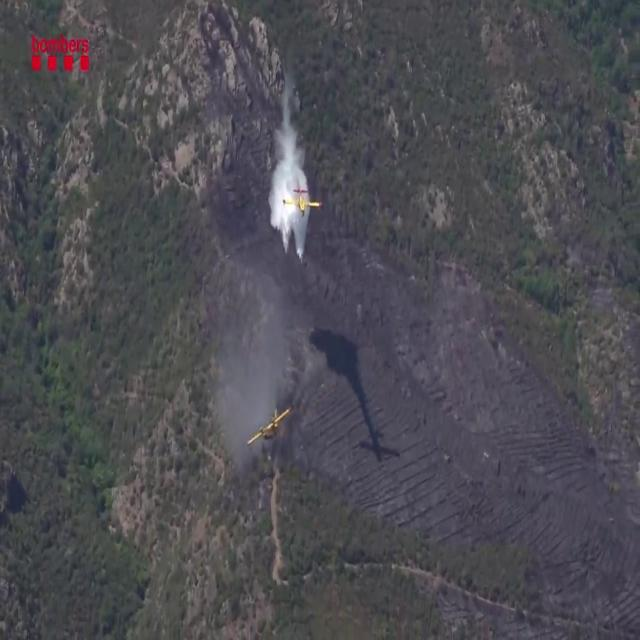Smoke: (205, 246, 293, 494), (266, 87, 313, 239)
